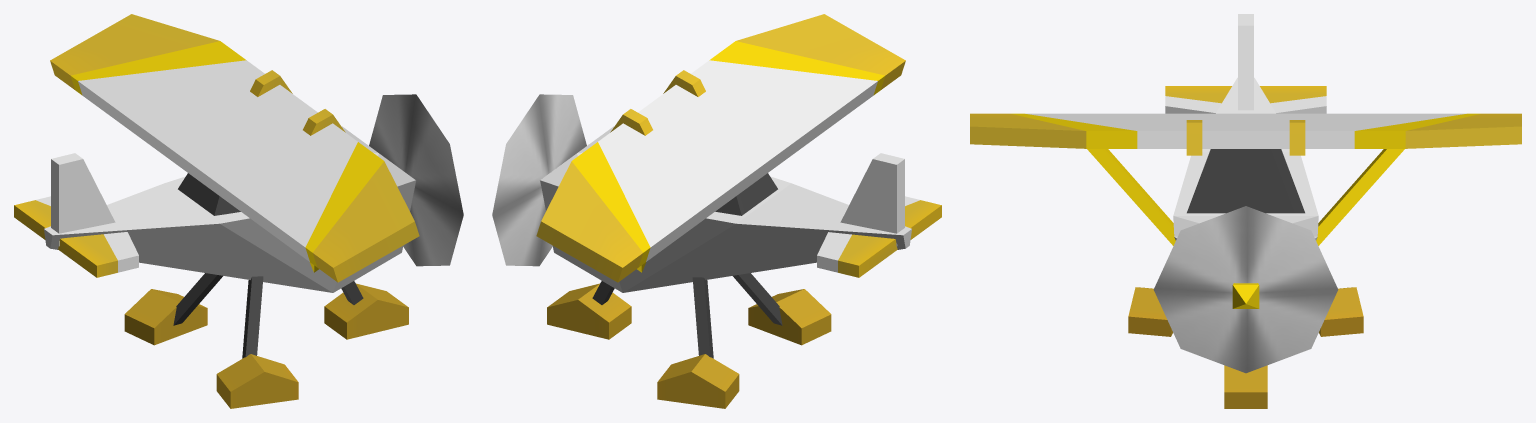
File: Touch_objects_gold.fbx
3 renders of one model, left to right at view 1: azimuth 30°, elevation 25°; view 2: azimuth 150°, elevation 25°; view 3: azimuth 270°, elevation 25°, orthographic. The views are drawn at different scales.
Parts seen in each view (by area): view 1: body, propeller; view 2: body, propeller; view 3: body, propeller.
Part boxes in pixels (<box>): body: <box>14,14,419,408</box>; propeller: <box>369,94,463,266</box>; body: <box>536,14,941,408</box>; propeller: <box>492,94,586,266</box>; body: <box>970,14,1521,408</box>; propeller: <box>1153,206,1338,373</box>.
Size of the model in its own units: 4900 by 2908 by 6037.
